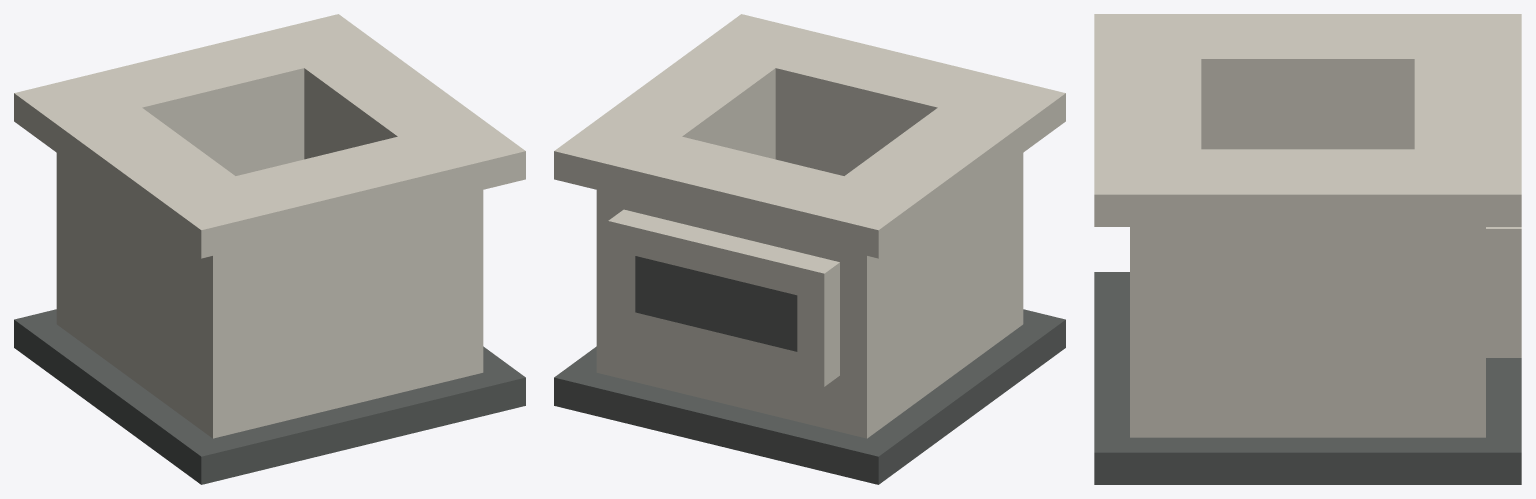
The model's file is visual-far.glb.
3 views of the same model, side by side, from view 1: azimuth 30°, elevation 25°; view 2: azimuth 150°, elevation 25°; view 3: azimuth 270°, elevation 25° (orthographic). The views are drawn at different scales.
Parts seen in each view (by area): view 1: 独立花盆与种植容器母版; view 2: 独立花盆与种植容器母版; view 3: 独立花盆与种植容器母版.
Boxes of the visible parts, x1,y1,x2,y2 form: 独立花盆与种植容器母版: [14, 14, 525, 484]; 独立花盆与种植容器母版: [554, 14, 1065, 484]; 独立花盆与种植容器母版: [1094, 14, 1521, 484].
Size of the model in its own units: 2.4 by 1.8 by 2.4.
2 materials, 2 textured.
